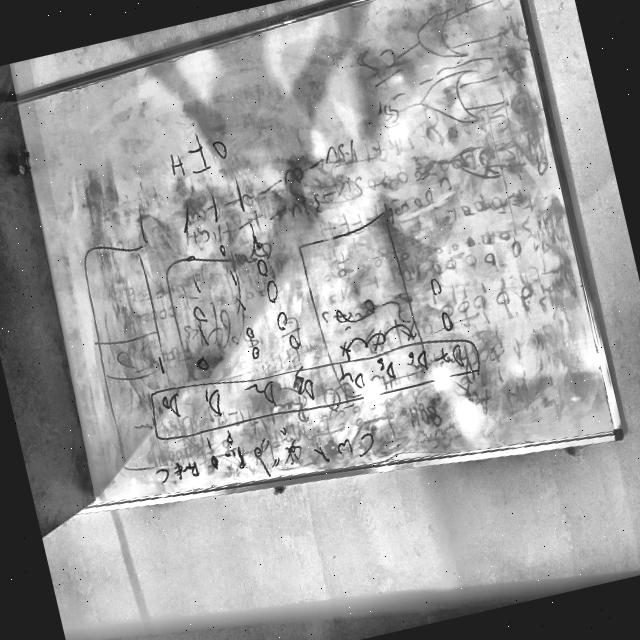maker board: (5, 0, 620, 553)
